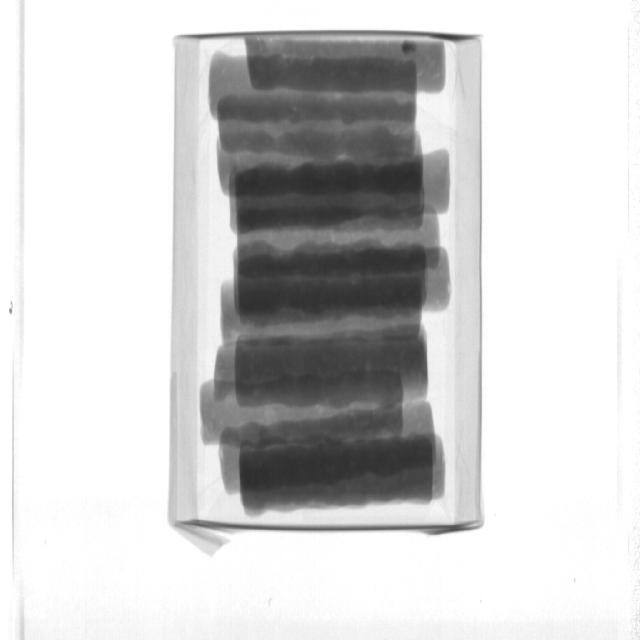ym: (402, 40, 417, 54)
